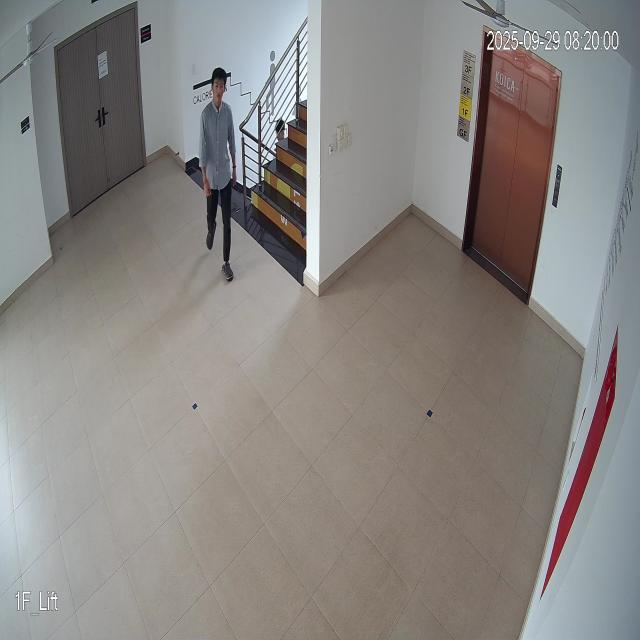face: (208, 67, 229, 109)
